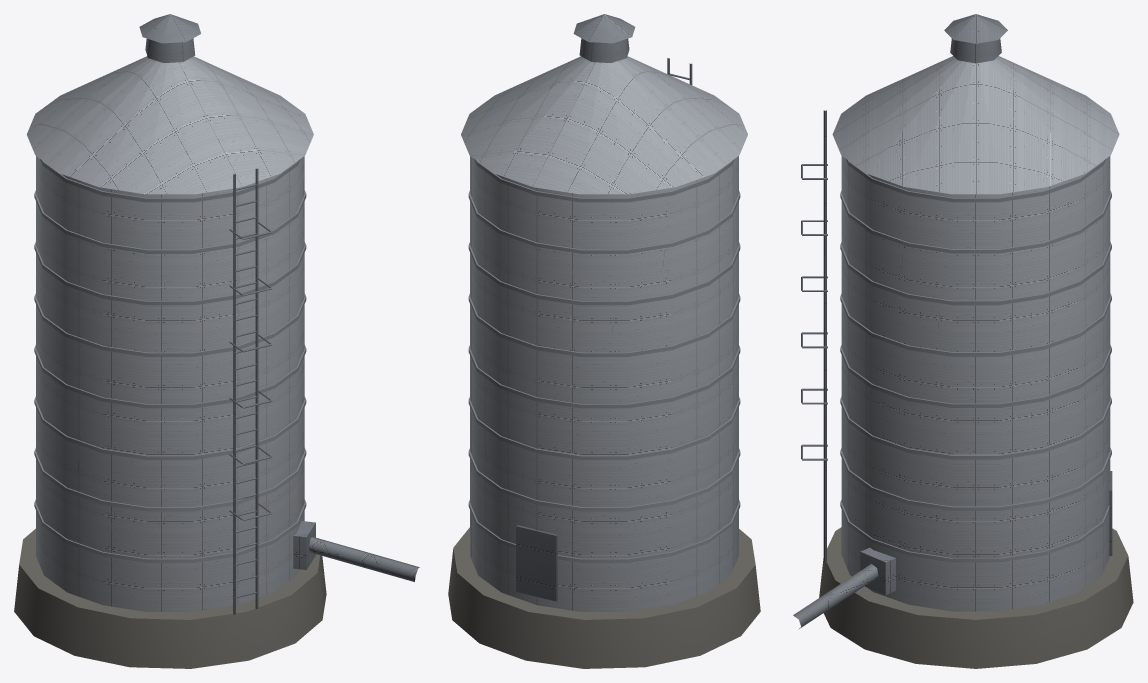
The model's file is silo.glb.
The picture shows the model from 3 angles, left to right: view 1: azimuth 30°, elevation 25°; view 2: azimuth 150°, elevation 25°; view 3: azimuth 270°, elevation 25°; orthographic projection.
Visible parts, largest first — view 1: silo, silo_liso; view 2: silo, silo_liso; view 3: silo, silo_liso.
Part boxes in pixels (x1,y1,x2,y2): silo: (26,14,419,614); silo_liso: (14,159,326,668); silo: (461,14,747,611); silo_liso: (448,73,760,668); silo: (793,14,1119,629); silo_liso: (801,159,1133,668).
Bounding box in the file's own units: 6.65 × 12.57 × 6.66.
2 materials, 1 textured.
